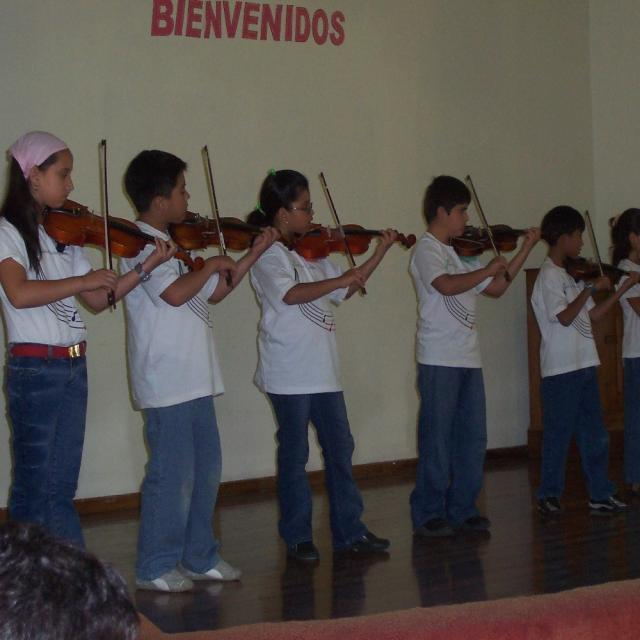violin: (41, 190, 206, 274), (291, 221, 418, 263), (167, 210, 275, 256), (447, 222, 546, 262), (562, 258, 636, 284)
